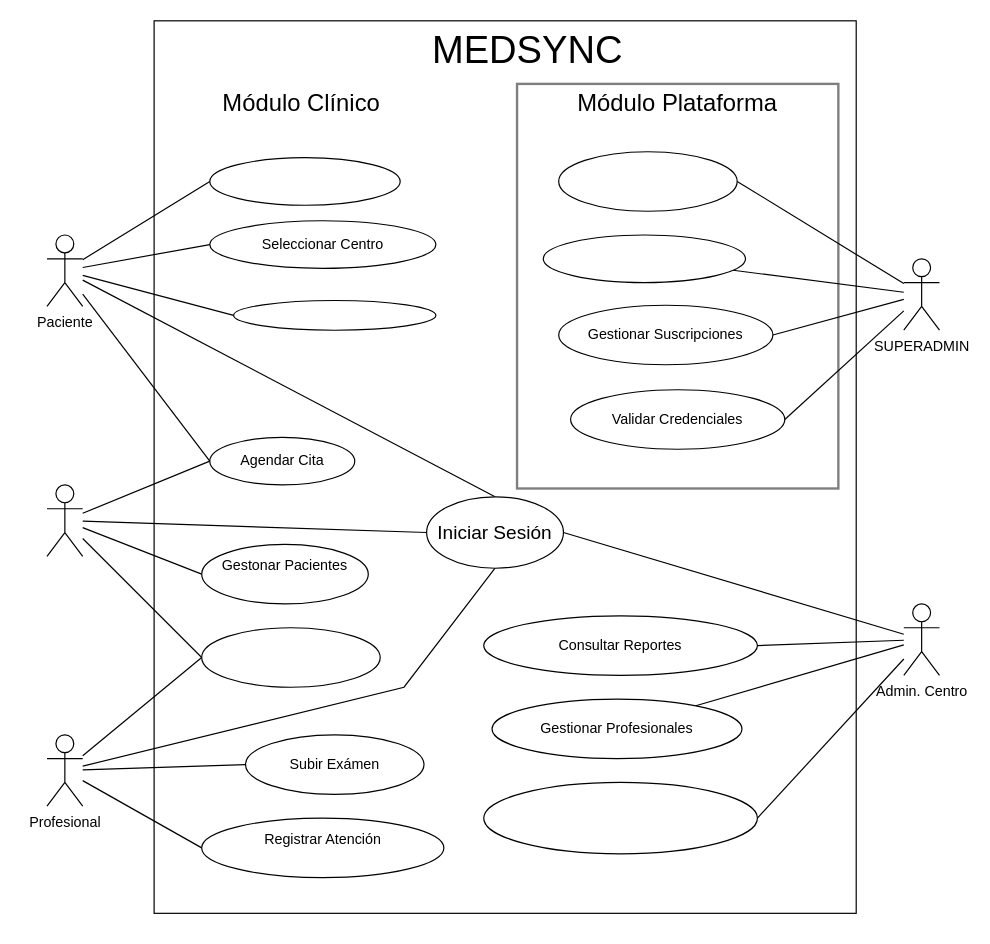
Image size: 990x944. Some labels were removed from this diagram. Each missing label, with the centre of its shape:
"Consultar Agenda" belongs at (290,657).
"Consultar Perfil" belongs at (334,314).
"Crear Cuenta" belongs at (304,180).
"Gestionar Centros" belongs at (647,181).
"Gestionar Planes" belongs at (644,258).
"Gestionar Prestaciones" belongs at (620,817).
"Recepcionista" belongs at (64,520).
